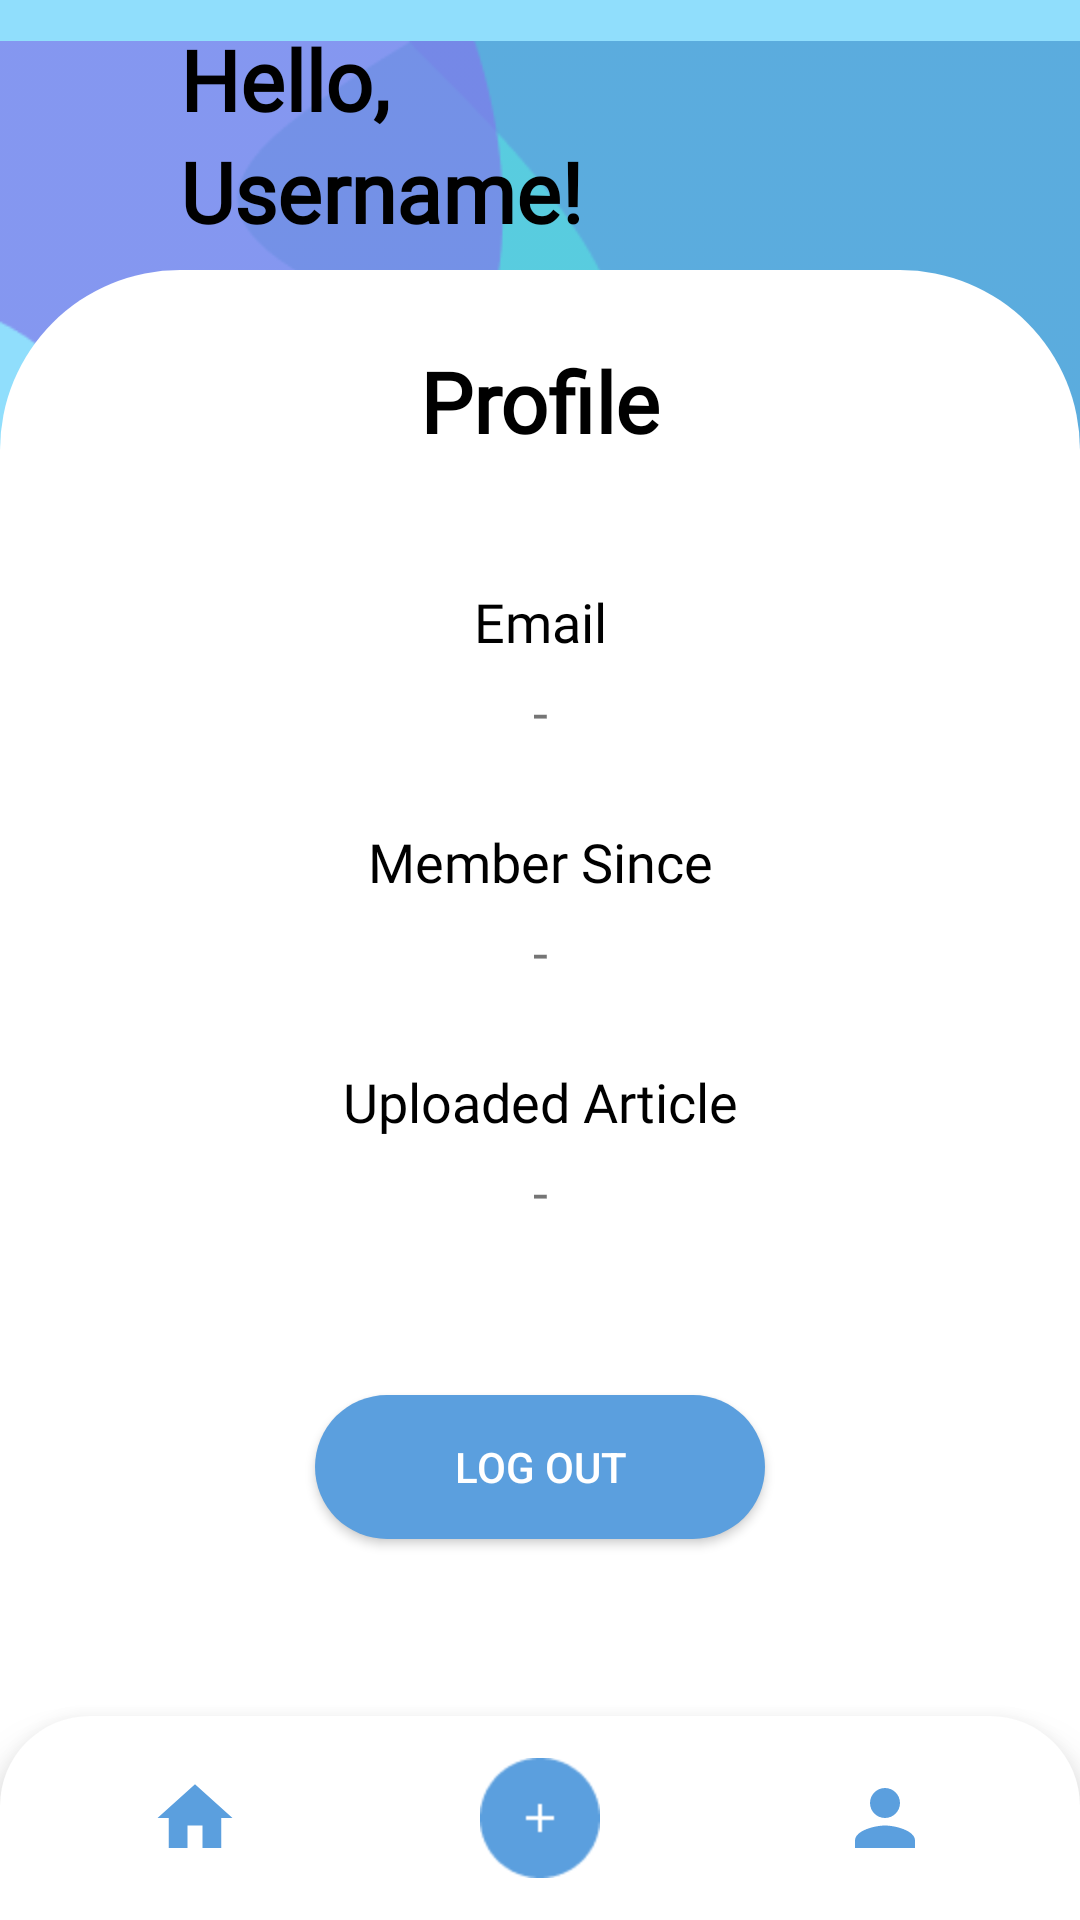

Where to tap for icons on this 1080*1920 app screen, as (x,y):
create: (540,1818)
home: (195,1816)
person: (885,1818)
